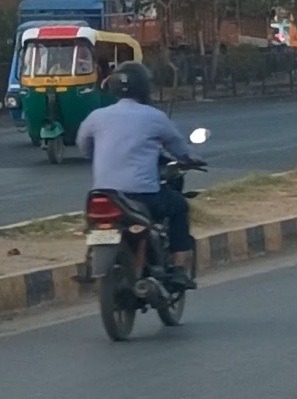BikeWithRider: (66, 56, 216, 345)
Helmet: (100, 57, 158, 109)
